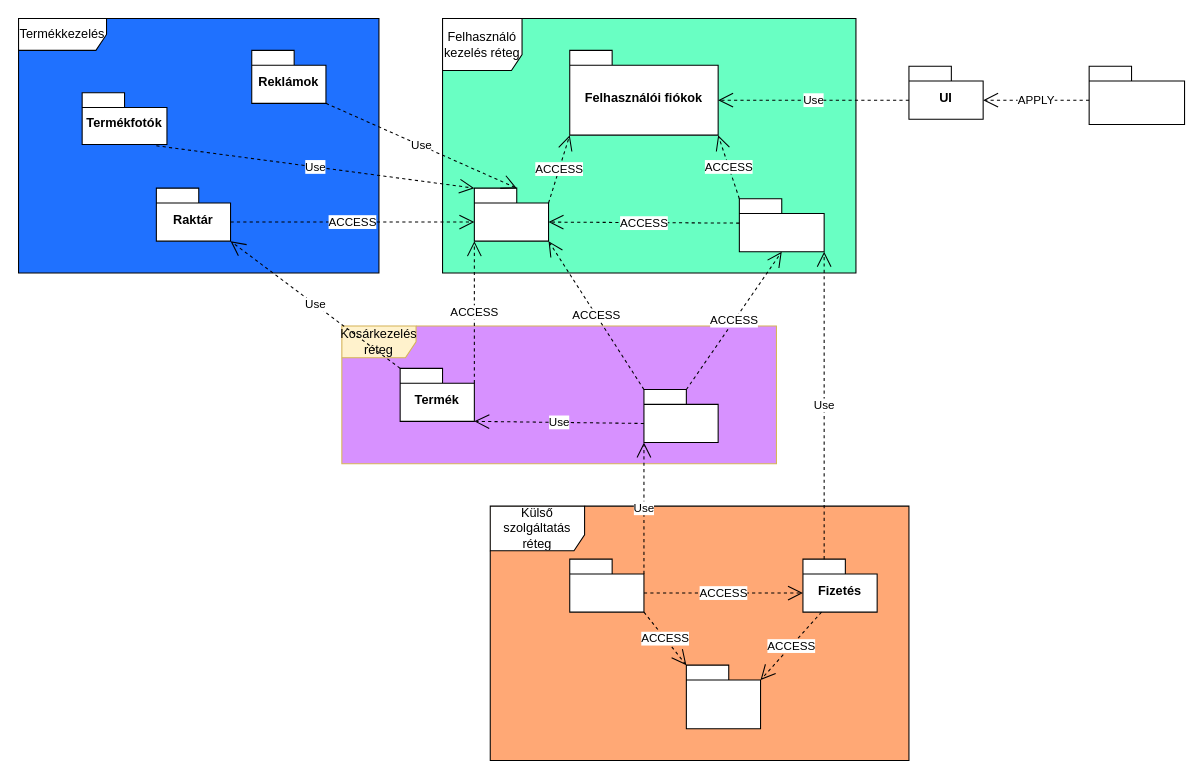
The diagram is 1203 pixels wide and 779 high, and some of its shapes have lost their labels. The centre of each missing label's shape, as x and y in pixels:
"Admin" goes at pixel 511 214.
"Kiszállítás" goes at pixel 606 585.
"Kosár" goes at pixel 680 415.
"Külső API-k" goes at pixel 723 696.
"UI Keretrendszer" goes at pixel 1136 95.
"Vásárló" goes at pixel 781 225.
